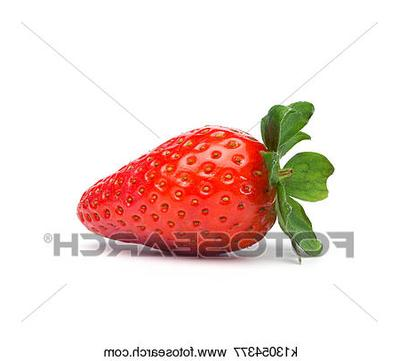strawberry: (0, 0, 400, 361)
